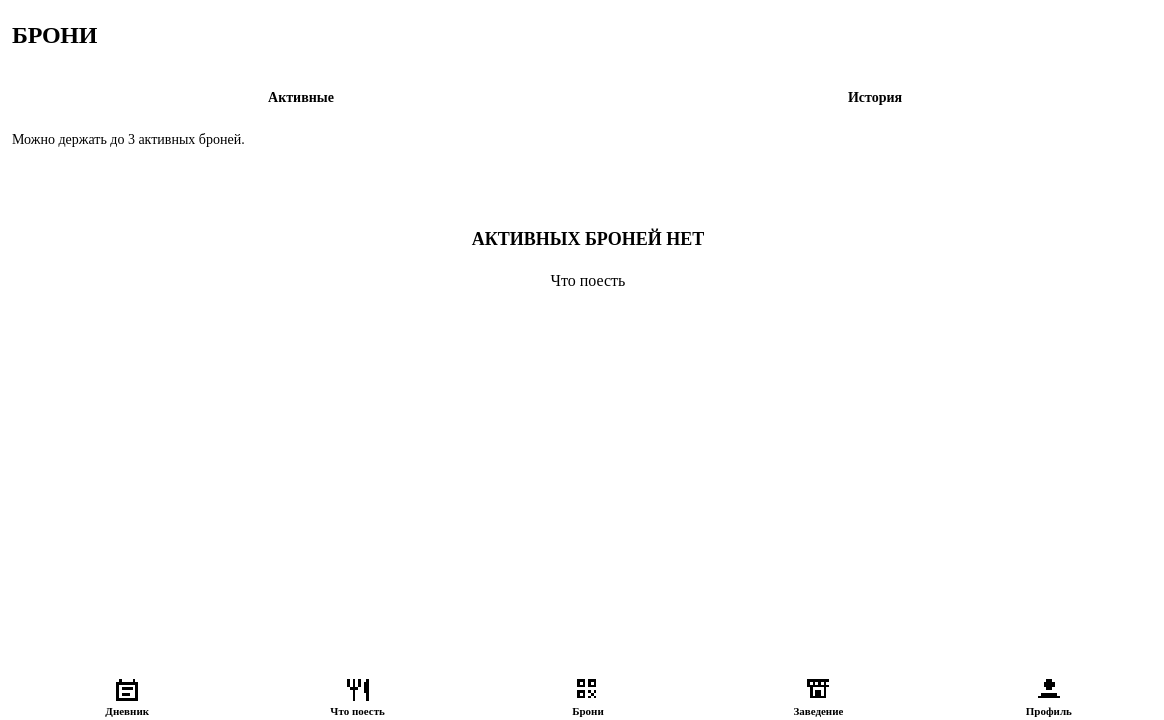
Scenario: list › shows empty states
Expected: the heading "Активных броней нет" is shown, 472,228 -> 704,252
Step 1. Click the button "История" → (875, 98), box 590,76 -> 1160,120
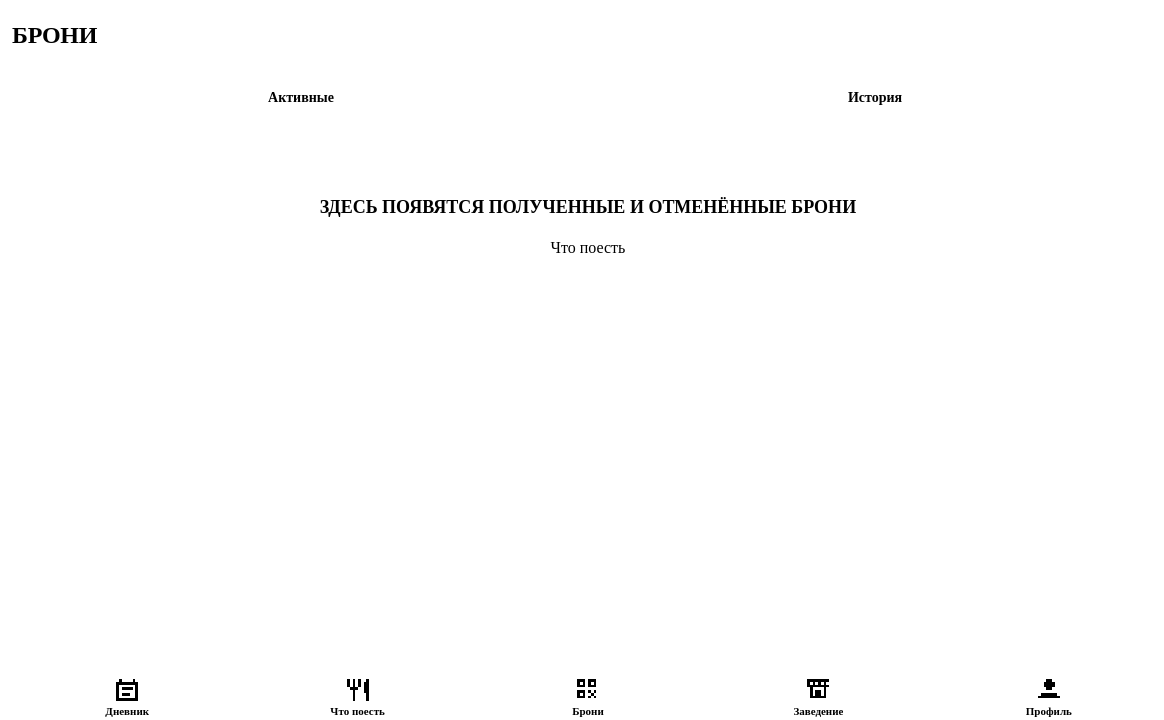
Now the heading "Здесь появятся полученные и отменённые брони" is shown, box 320,196 -> 856,219
